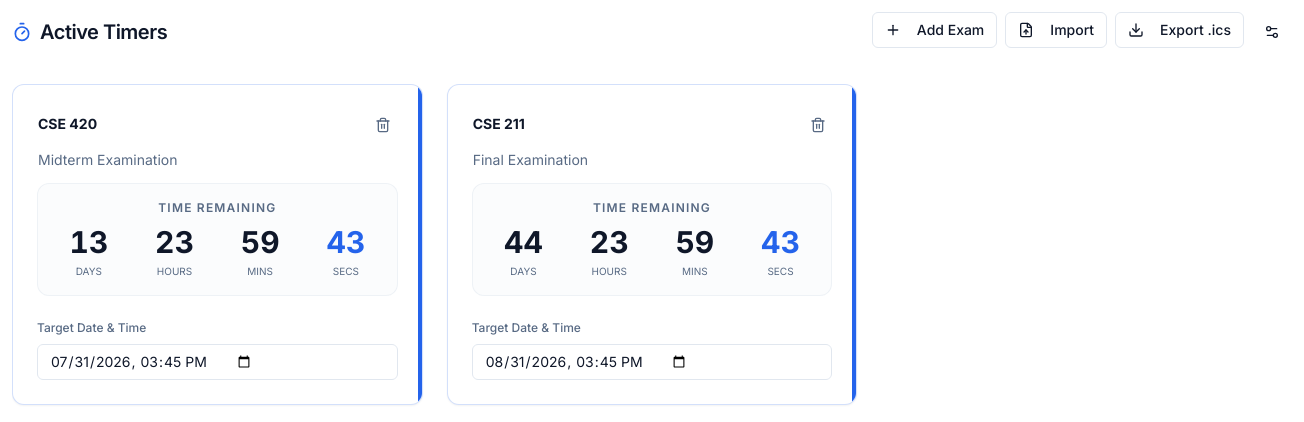
Test: ExamCountdown › shows empty state when all exams removed
// Remove first exam
Click the button named "Remove": coordinates (383, 125) [368,109,398,141]
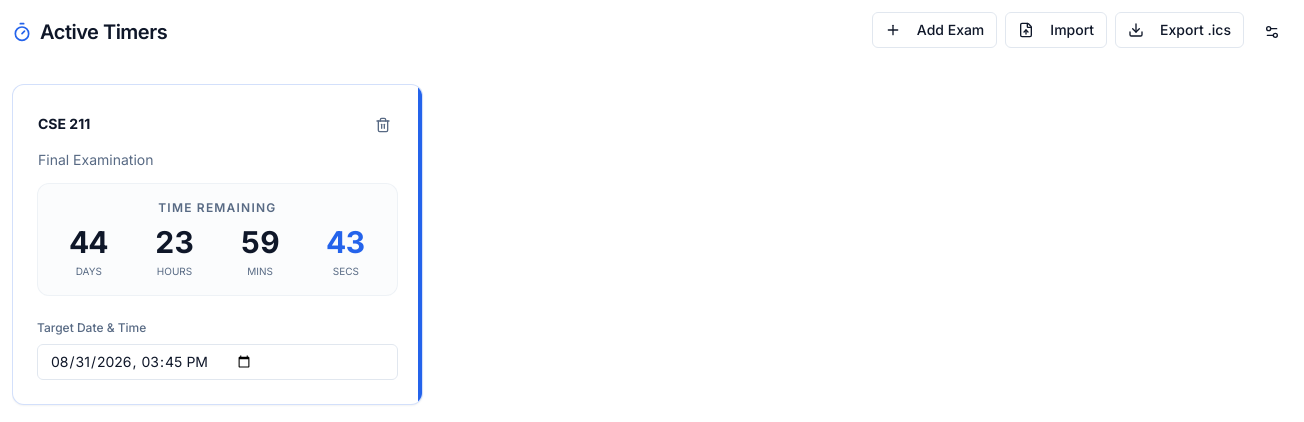
Click the button named "Remove": coordinates (383, 125) [368,109,398,141]
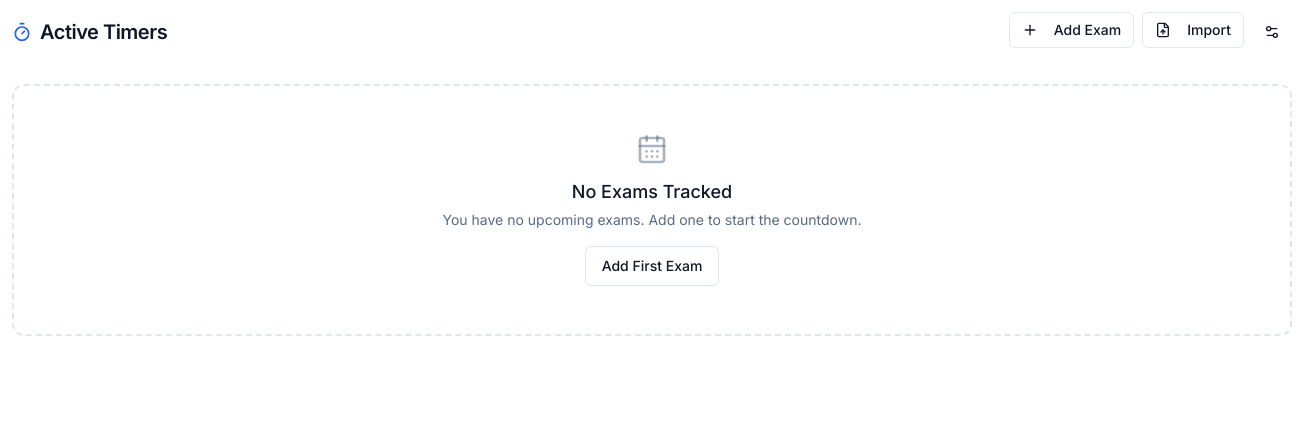
Check: the heading "No Exams Tracked" is shown, box [572,181,732,202]
